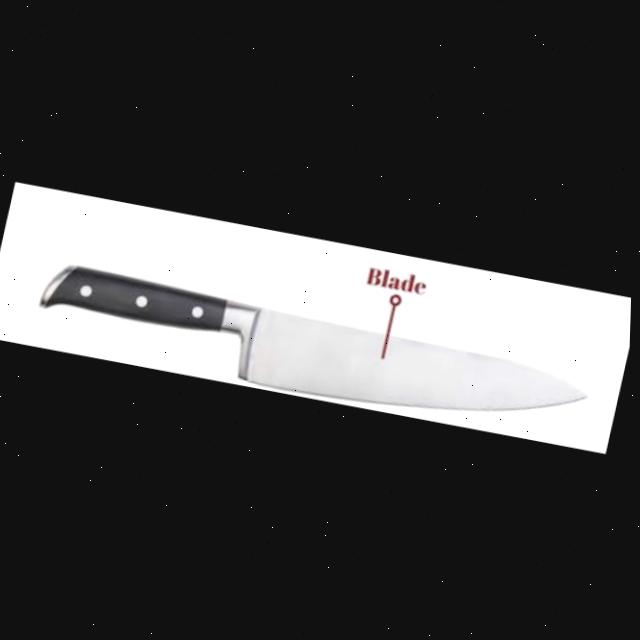Knife: (29, 254, 601, 446)
